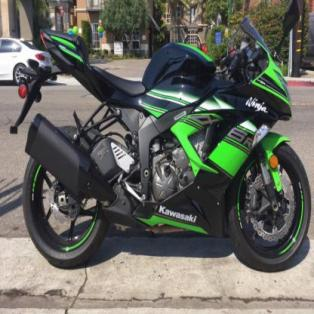Motocicleta: (6, 10, 314, 269)
